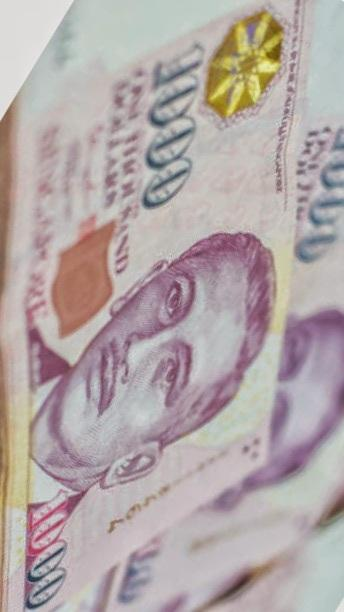1000SingaporeDollar: (19, 0, 302, 611)
